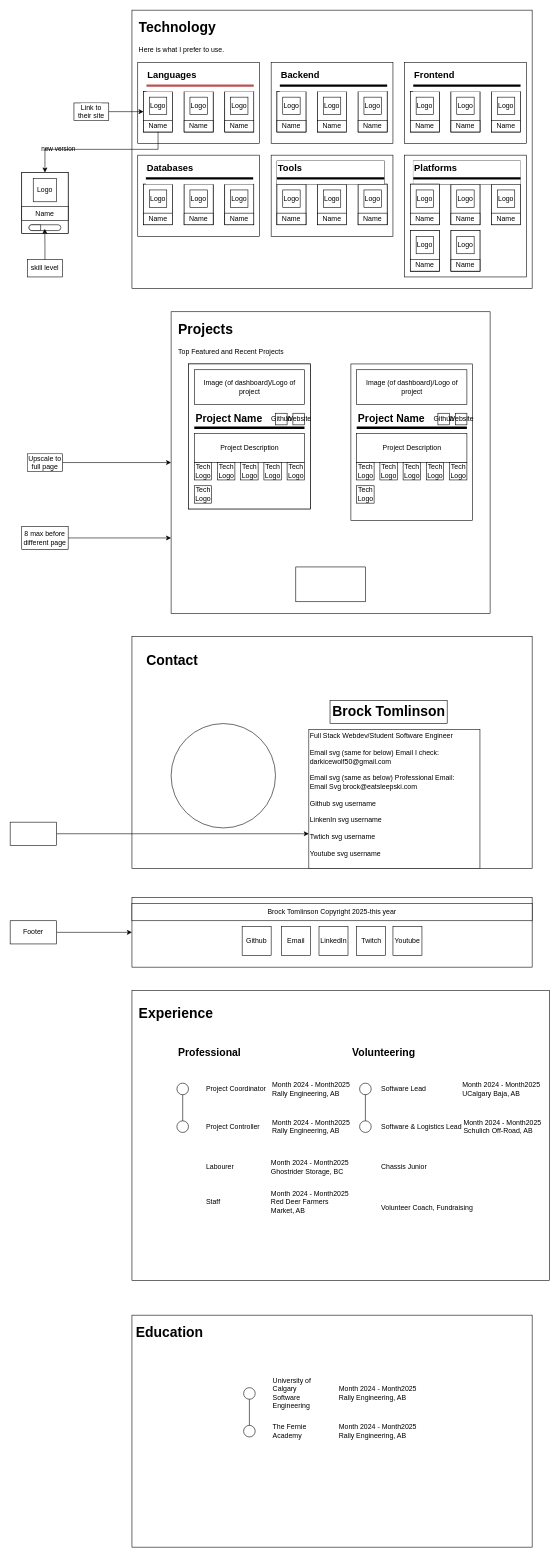
Image size: 560x1557. Some labels were removed from this diagram. The centre of each missing label's shape, as x and y in pixels:
"All links" goes at point (33, 833).
"All my Projects" goes at point (330, 584).
"professional picture" goes at point (223, 775).
